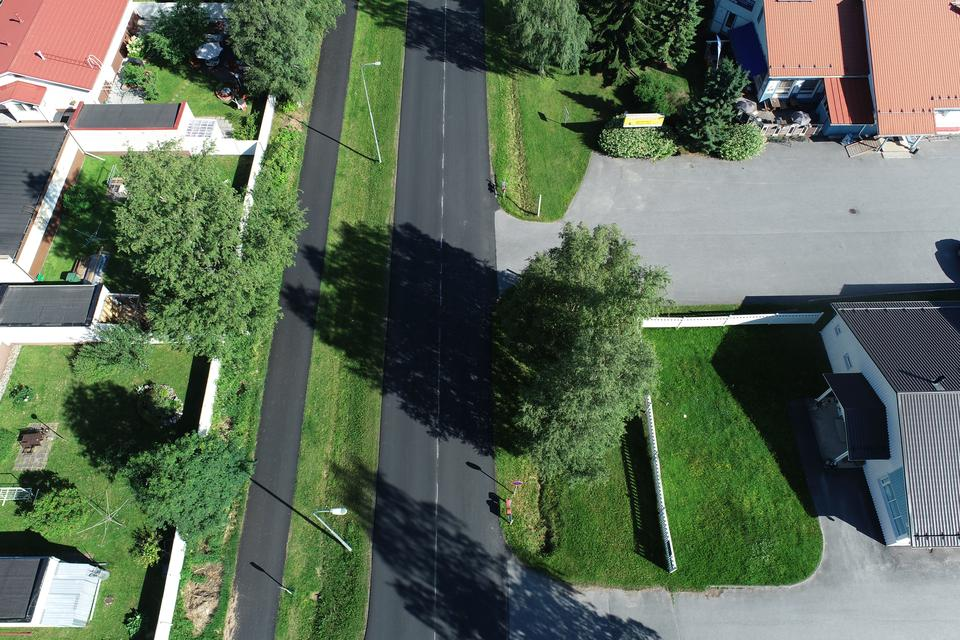intersection: (356, 188, 577, 307), (345, 536, 578, 640)
